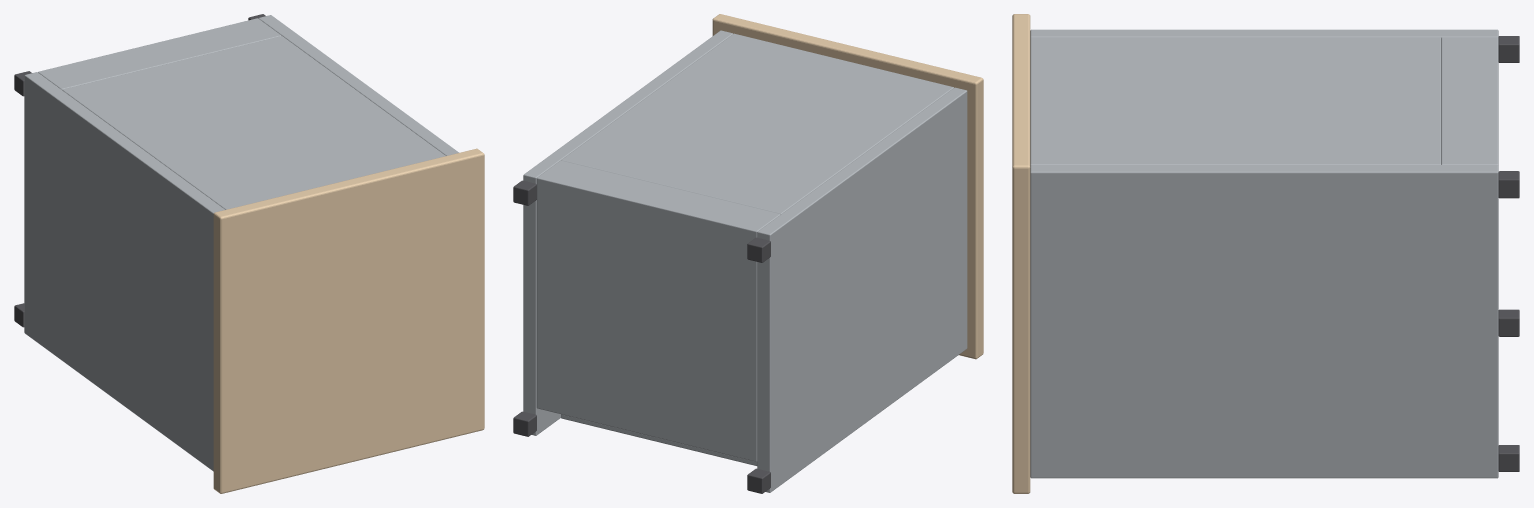
The model's file is carvera_bench.glb.
The picture shows the model from 3 angles, left to right: view 1: azimuth 30°, elevation 25°; view 2: azimuth 150°, elevation 25°; view 3: azimuth 270°, elevation 25°; orthographic projection. The views are drawn at different scales.
Parts seen in each view (by area): view 1: top, side_-1, back, plinth, side_1; view 2: side_-1, plinth, back, top, side_1, bottom_rail, foot_0, foot_2, foot_3, foot_1; view 3: side_1, back, top, plinth, side_-1, foot_0, foot_3, foot_1, foot_2.
Part boxes in pixels (bbox=[...]): top: bbox=[213, 148, 484, 493]; side_-1: bbox=[24, 72, 224, 471]; back: bbox=[62, 36, 445, 209]; plinth: bbox=[38, 18, 281, 89]; side_1: bbox=[258, 15, 459, 155]; side_-1: bbox=[757, 87, 967, 492]; plinth: bbox=[536, 160, 780, 461]; back: bbox=[561, 33, 953, 214]; top: bbox=[712, 14, 983, 359]; side_1: bbox=[523, 30, 732, 435]; bottom_rail: bbox=[561, 414, 757, 465]; foot_0: bbox=[747, 468, 770, 493]; foot_2: bbox=[747, 237, 770, 262]; foot_3: bbox=[513, 180, 536, 205]; foot_1: bbox=[513, 411, 536, 436]; side_1: bbox=[1030, 165, 1498, 478]; back: bbox=[1030, 37, 1440, 165]; top: bbox=[1012, 14, 1030, 493]; plinth: bbox=[1441, 37, 1498, 165]; side_-1: bbox=[1030, 29, 1498, 37]; foot_0: bbox=[1498, 309, 1519, 336]; foot_3: bbox=[1498, 171, 1519, 198]; foot_1: bbox=[1498, 445, 1519, 471]; foot_2: bbox=[1498, 36, 1519, 62].
Bounding box in the file's own units: 0.6 × 0.611 × 0.84.
